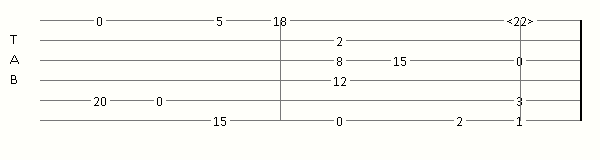0: (96, 14, 107, 27), (156, 94, 167, 107), (336, 114, 347, 127), (516, 54, 527, 67)
1: (516, 114, 527, 127)
12: (333, 74, 351, 87)
15: (213, 114, 231, 127), (393, 54, 411, 67)
18: (273, 14, 291, 27)
2: (336, 34, 347, 47), (456, 114, 467, 127)
20: (93, 94, 111, 107)
3: (516, 94, 527, 107)
5: (216, 14, 227, 27)
8: (336, 54, 347, 67)
harmonic: (506, 14, 538, 27)
